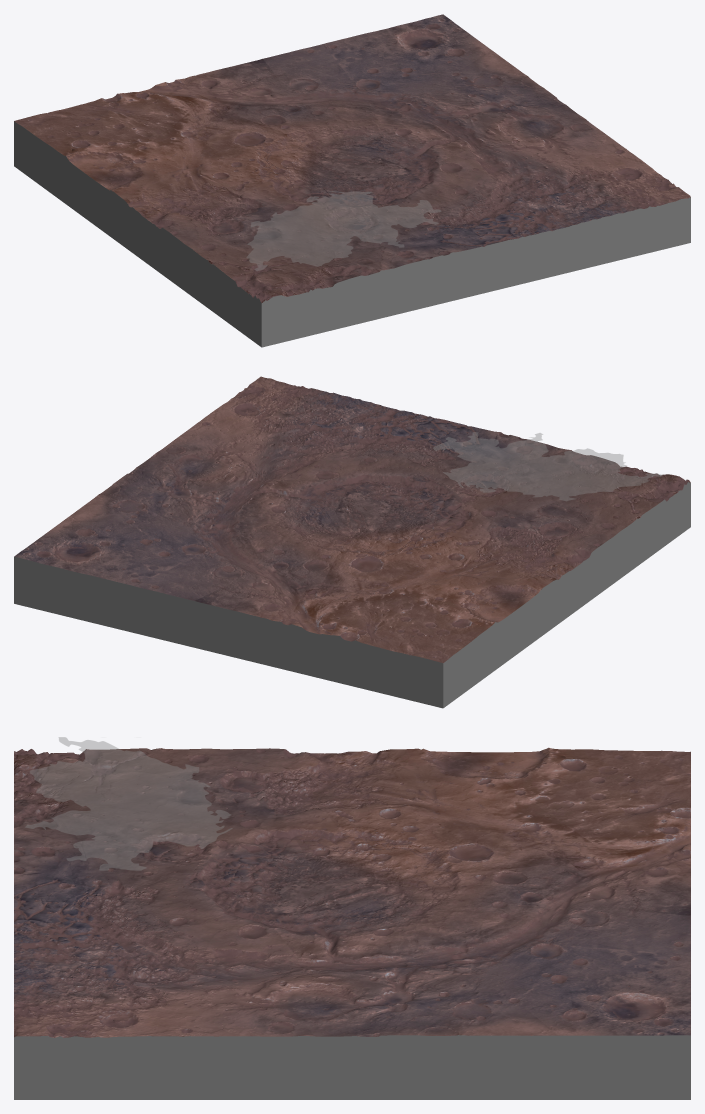
The picture shows the model from 3 angles, top to bottom: view 1: azimuth 30°, elevation 25°; view 2: azimuth 150°, elevation 25°; view 3: azimuth 270°, elevation 25°; orthographic projection. The views are drawn at different scales.
Visible parts, largest first — view 1: LP, Comparison; view 2: LP, Comparison; view 3: LP, Comparison.
Part boxes in pixels (x1=…): LP: x1=14, y1=14, x2=690, y2=347; Comparison: x1=246, y1=191, x2=441, y2=270; LP: x1=14, y1=376, x2=690, y2=708; Comparison: x1=433, y1=432, x2=662, y2=501; LP: x1=14, y1=747, x2=690, y2=1099; Comparison: x1=25, y1=737, x2=232, y2=870.
Bounding box in the file's own units: 7497 × 1027 × 7495.
Materials: 3 (2 with a texture image).
